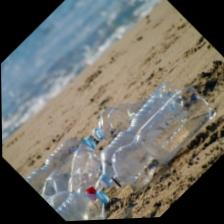plastic: (27, 38, 223, 220)
